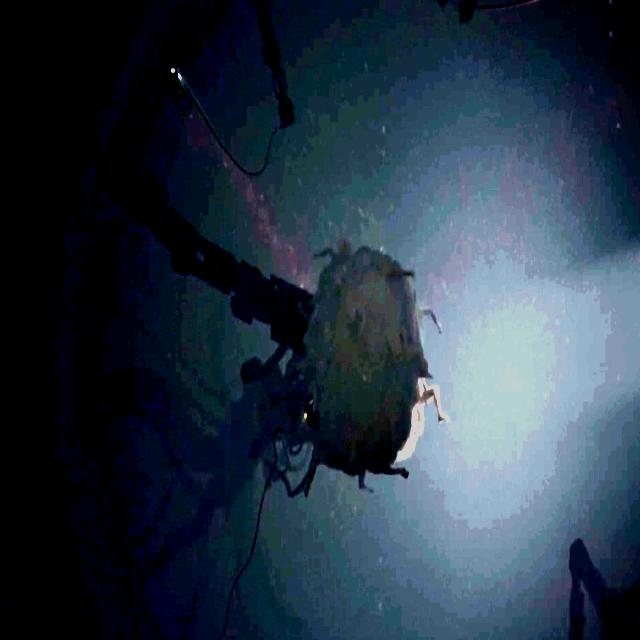blob: (284, 245, 448, 498)
interactible: (161, 63, 186, 107), (302, 386, 322, 433)
mechanism: (0, 40, 313, 353), (567, 538, 640, 640), (253, 0, 295, 127), (554, 0, 582, 10)
